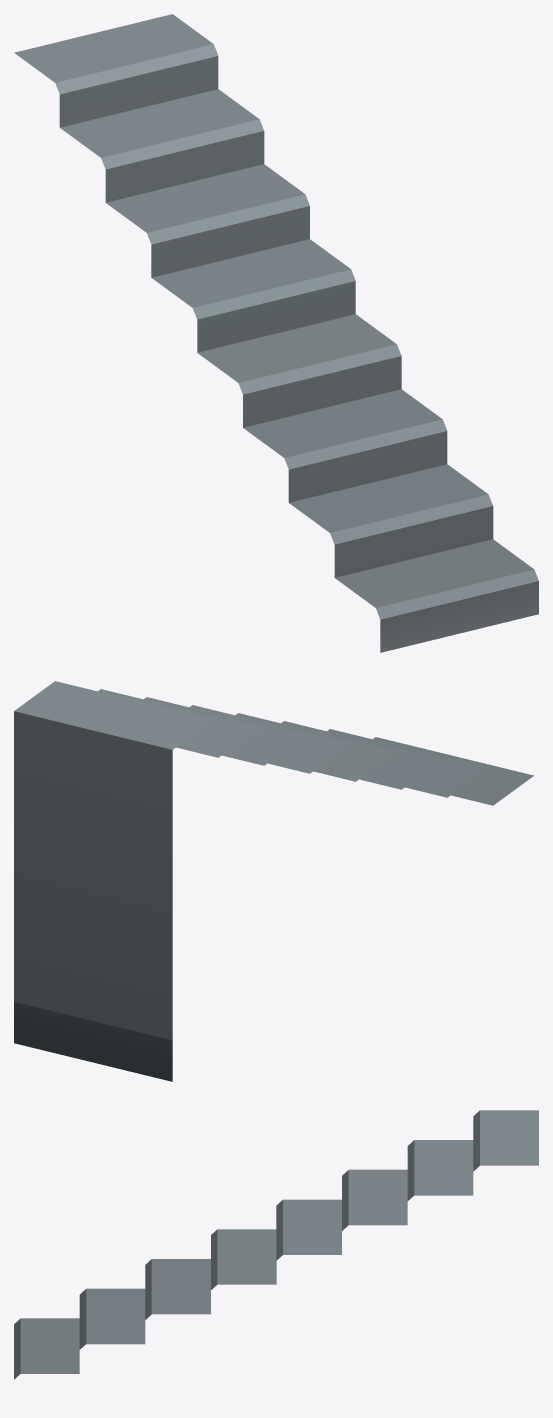
File: stairs_long_modular_center.gltf
3 views of the same model, one above another, from view 1: azimuth 30°, elevation 25°; view 2: azimuth 150°, elevation 25°; view 3: azimuth 270°, elevation 25° (orthographic). The views are drawn at different scales.
Visible parts, largest first — view 1: stairs_long_modular_center; view 2: stairs_long_modular_center; view 3: stairs_long_modular_center.
Boxes of the visible parts, <box> form: stairs_long_modular_center: <box>14,14,538,652</box>; stairs_long_modular_center: <box>14,681,533,1081</box>; stairs_long_modular_center: <box>14,1110,538,1379</box>.
Size of the model in its own units: 2 by 4 by 8.
Materials: 1 (1 with a texture image).
